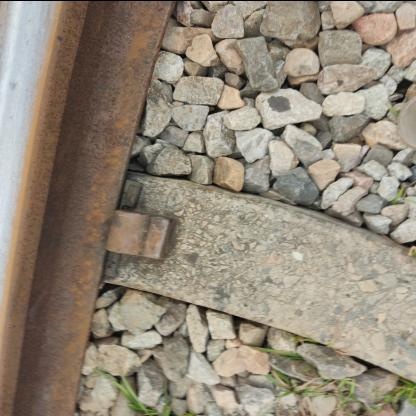Defective 1: (67, 177, 215, 301)
